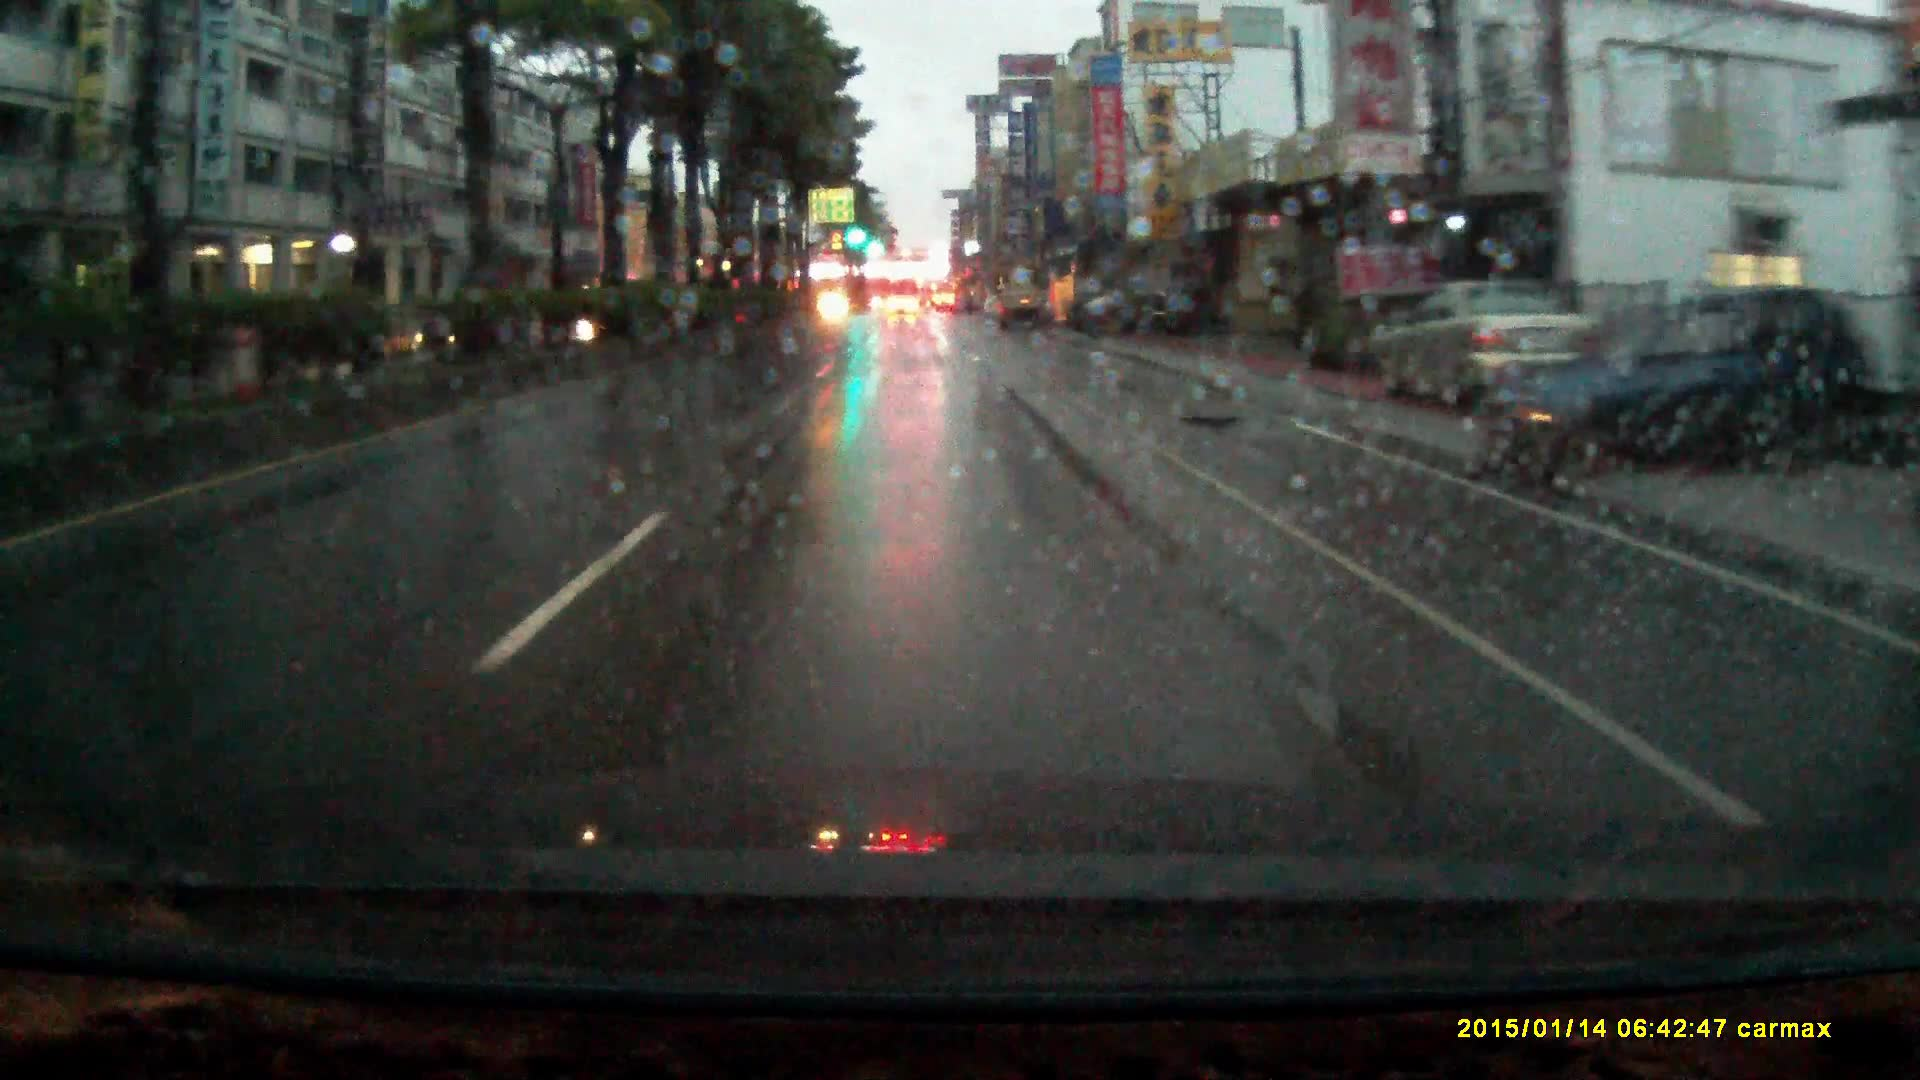vehicle: (1489, 287, 1879, 485), (1379, 284, 1597, 407), (1067, 287, 1228, 338), (996, 284, 1046, 334), (886, 295, 919, 318)
